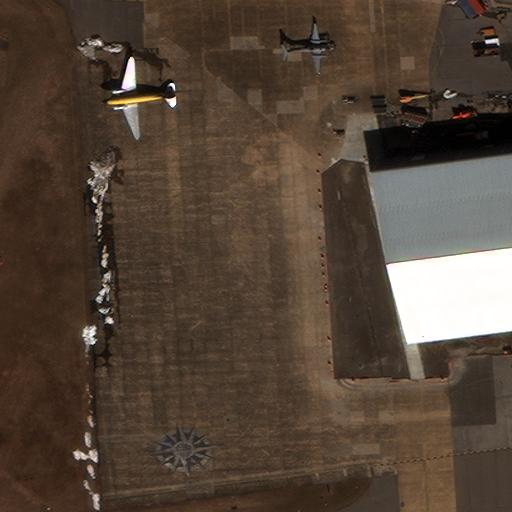Medium Civil Transport: (282, 23, 335, 73)
Military Transport: (106, 58, 176, 139)
